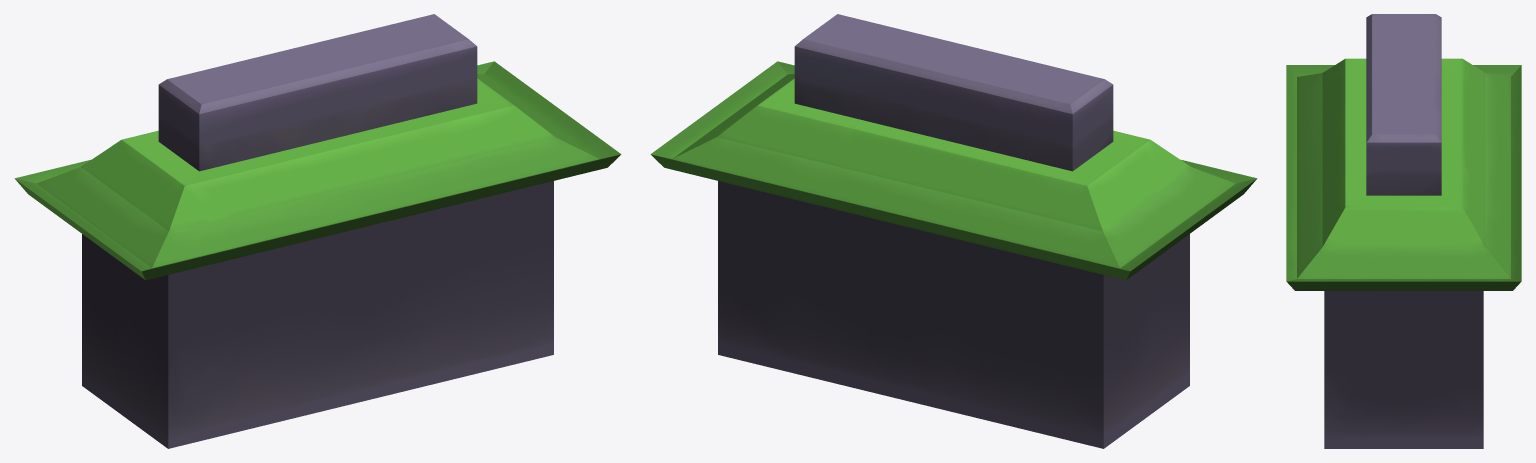
The model's file is build_small2.fbx.
3 renders of one model, left to right at view 1: azimuth 30°, elevation 25°; view 2: azimuth 150°, elevation 25°; view 3: azimuth 270°, elevation 25°, orthographic. The views are drawn at different scales.
Visible parts, largest first — view 1: build_small2; view 2: build_small2; view 3: build_small2.
Boxes of the visible parts, bbox=[...] form: build_small2: bbox=[14, 14, 621, 448]; build_small2: bbox=[650, 14, 1257, 448]; build_small2: bbox=[1286, 14, 1521, 448].
Size of the model in its own units: 2728 by 1690 by 1251.
